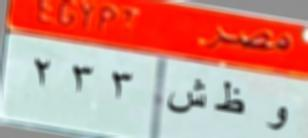2: (30, 53, 54, 91)
3: (107, 64, 137, 108), (68, 61, 97, 94)
Thaa: (212, 78, 247, 117)
sheen: (165, 74, 206, 120)
waw: (261, 95, 290, 138)
